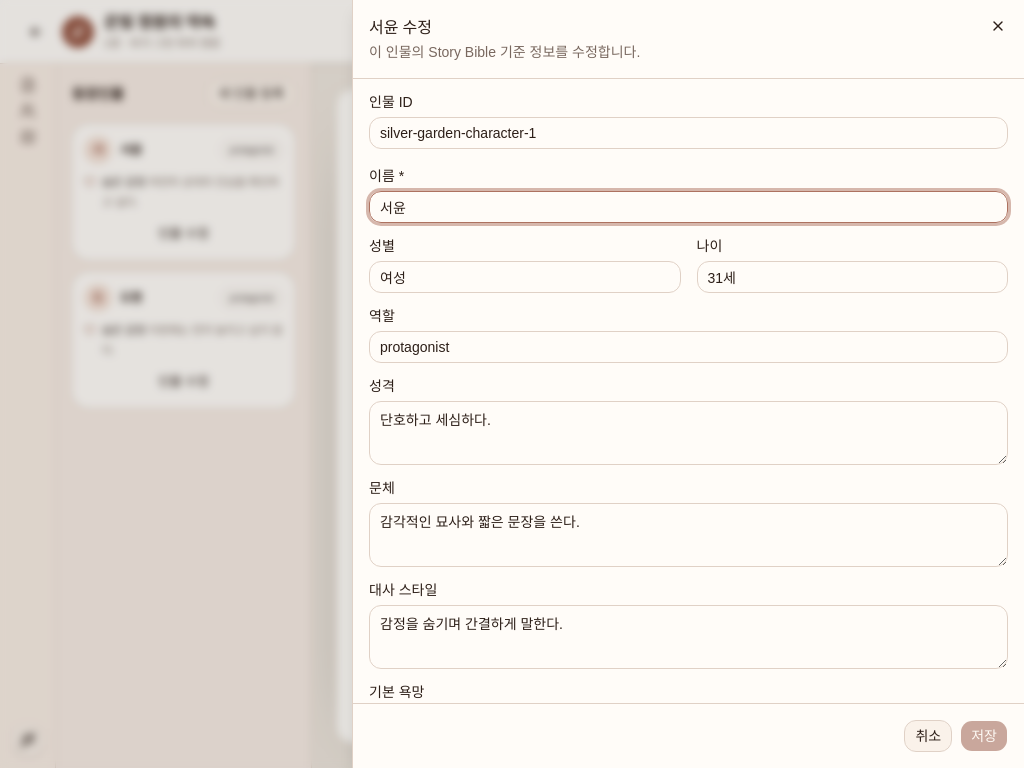
Test: WritingWorkspacePage › completes a confirmed dirty button close without reopening discard
Type " 폐기" into the text box labelled "성격".
click(688, 433); type(" 폐기")  # box [369, 401, 1008, 465]
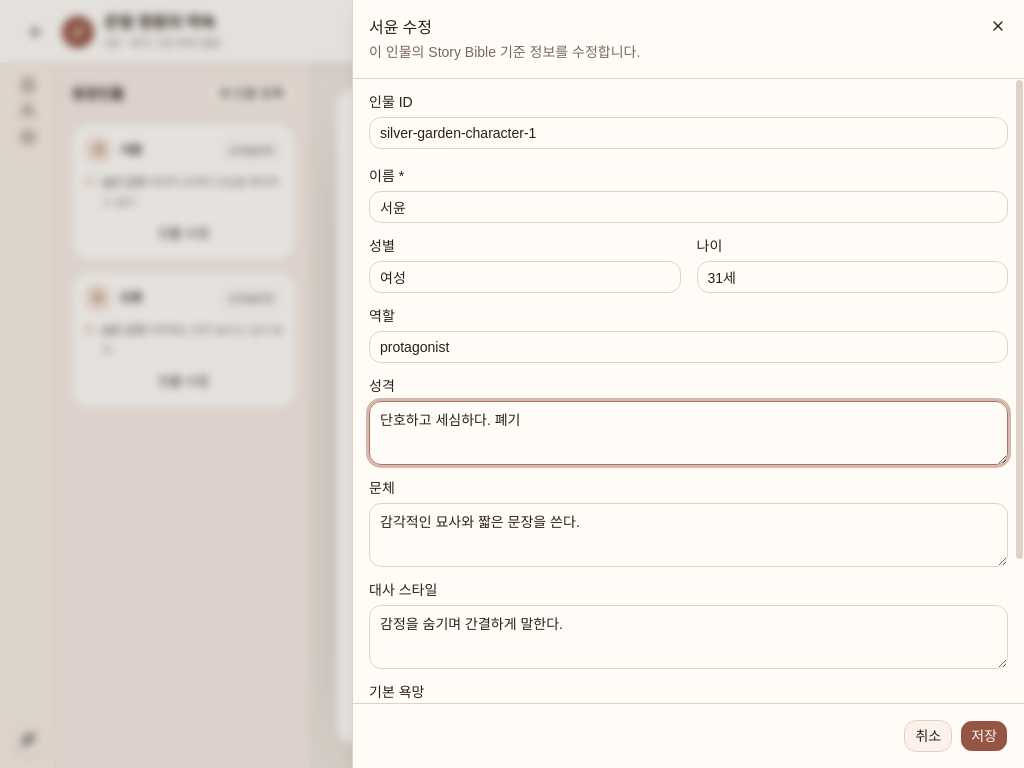
Click the button named "인물 편집기 닫기".
click(998, 26)  # box [984, 12, 1012, 40]
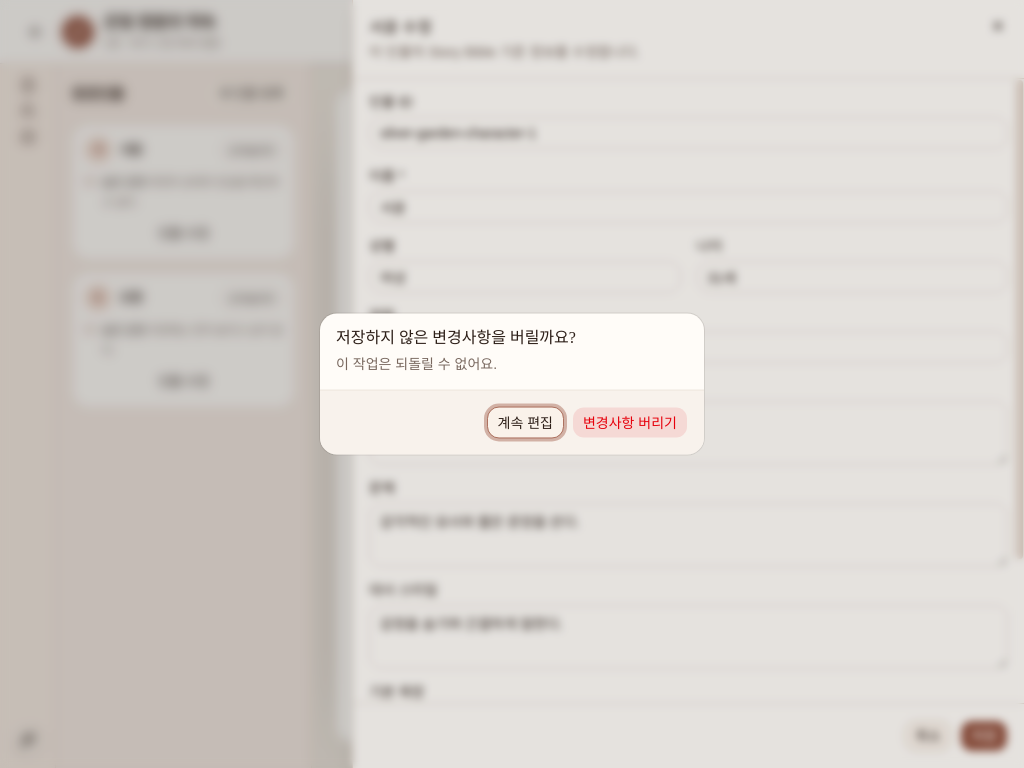
Click the button "변경사항 버리기".
click(630, 422)  # box [572, 406, 688, 438]
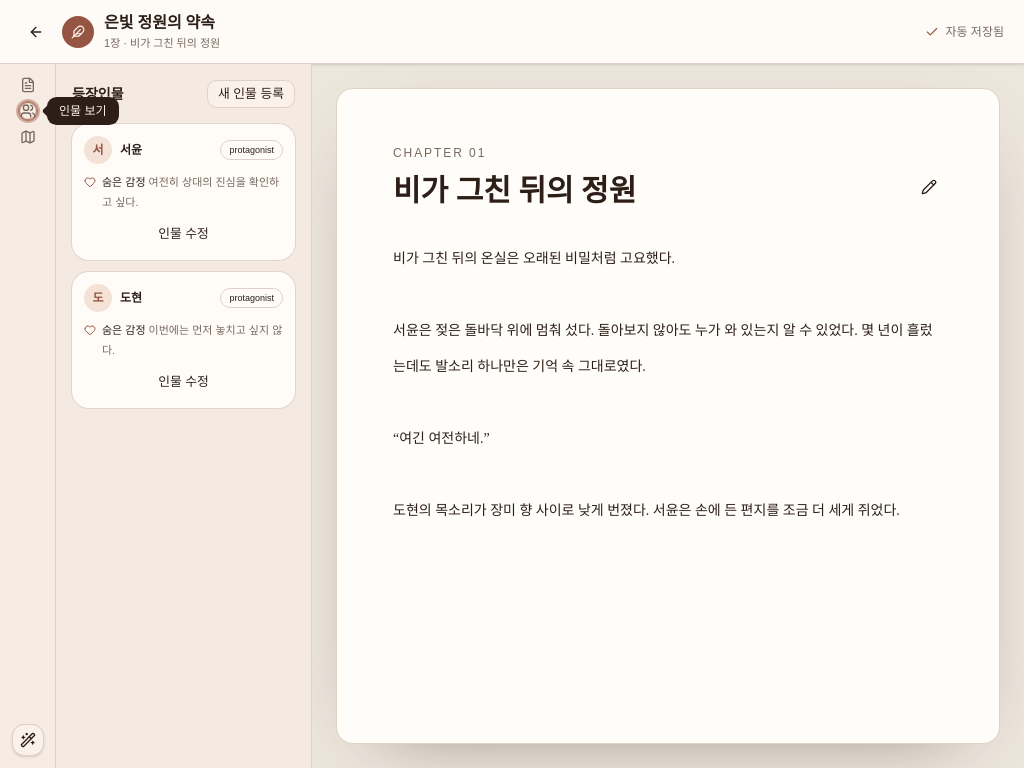
Expected: the heading "서윤 수정" is gone
Expected: the heading "저장하지 않은 변경사항을 버릴까요?" is gone
